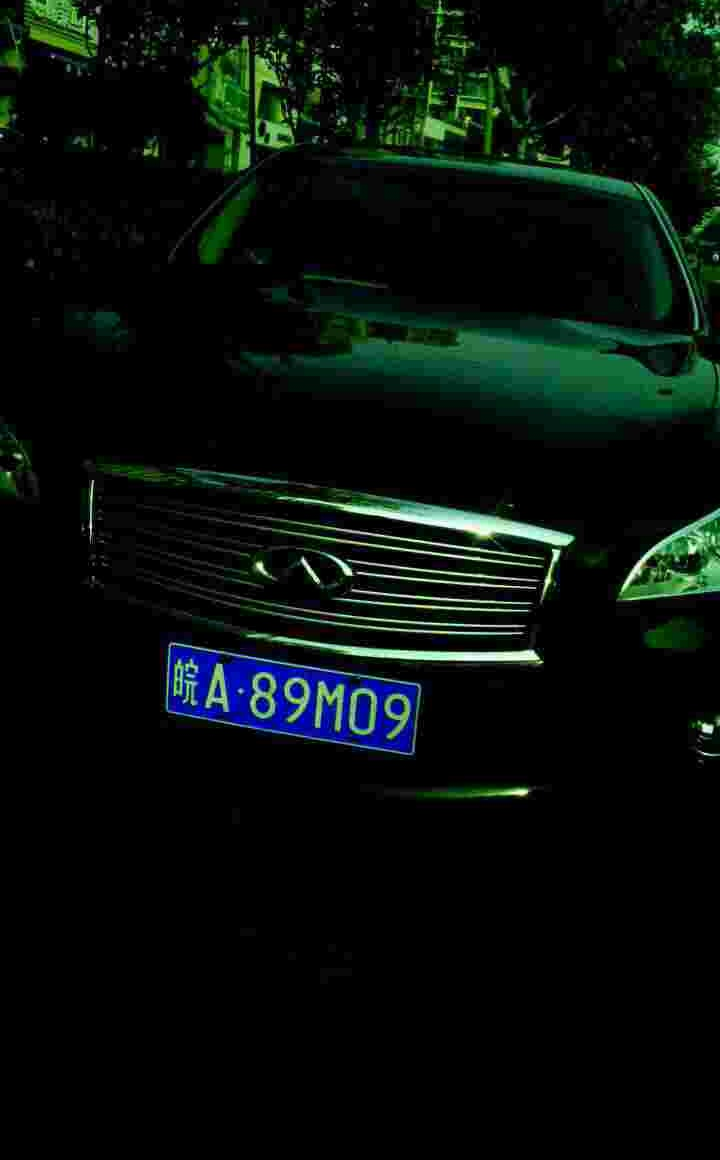license_plate: (163, 637, 421, 766)
